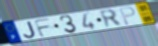3: (59, 14, 79, 34)
4: (82, 12, 98, 31)
F: (33, 17, 53, 38)
J: (23, 20, 38, 39)
P: (118, 6, 137, 26)
R: (98, 9, 124, 29)
